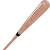baseball bat: (1, 1, 50, 50)
